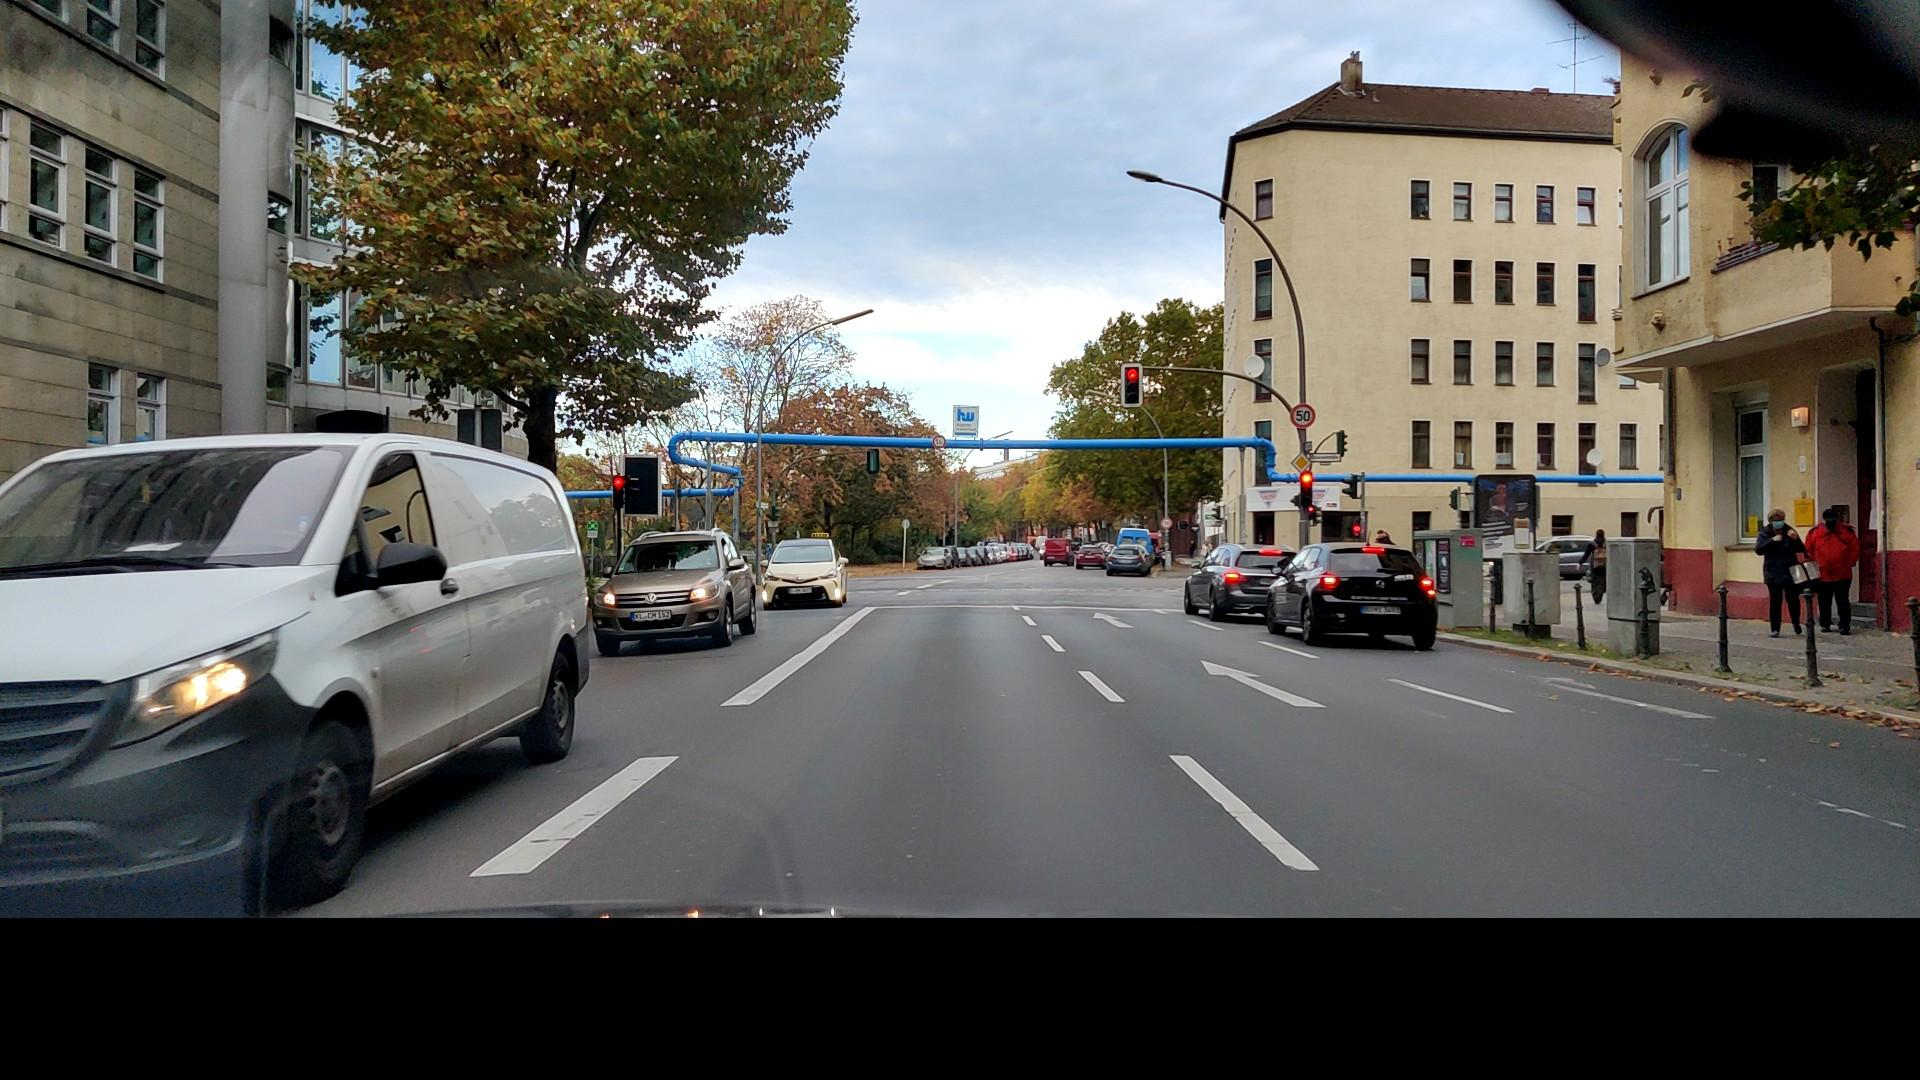Human face: (1767, 511, 1786, 528)
Vehicle registration plate: (1359, 605, 1401, 615), (631, 610, 670, 620)
